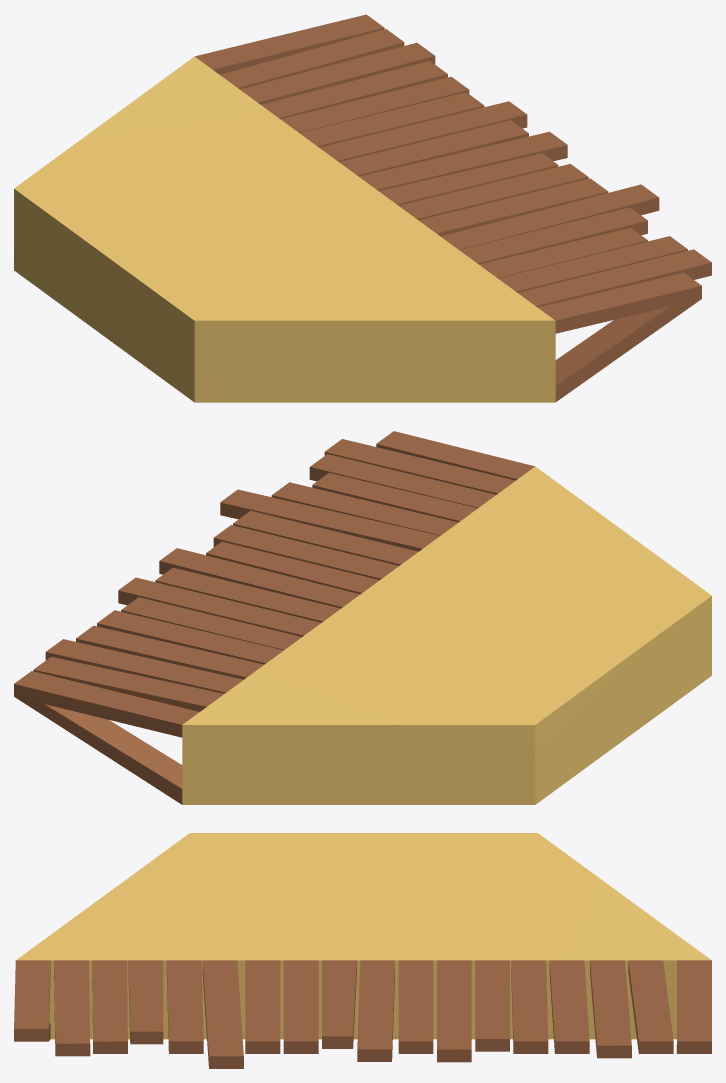
The model's file is desertPort.fbx.
3 renders of one model, top to bottom at view 1: azimuth 30°, elevation 25°; view 2: azimuth 150°, elevation 25°; view 3: azimuth 270°, elevation 25°, orthographic. The views are drawn at different scales.
Visible parts, largest first — view 1: Cylinder, Cube, Cube.001; view 2: Cylinder, Cube, Cube.002; view 3: Cylinder, Cube.
Part boxes in pixels (left/top/right/bottom): Cylinder: left=14, top=56, right=555, bottom=402; Cube: left=195, top=14, right=711, bottom=333; Cube.001: left=555, top=299, right=701, bottom=401; Cylinder: left=182, top=466, right=711, bottom=804; Cube: left=14, top=431, right=534, bottom=737; Cube.002: left=15, top=697, right=182, bottom=804; Cylinder: left=16, top=833, right=711, bottom=1039; Cube: left=14, top=960, right=711, bottom=1068.
Bounding box in the file's own units: 304 × 50 × 401.
1 material, 1 textured.
